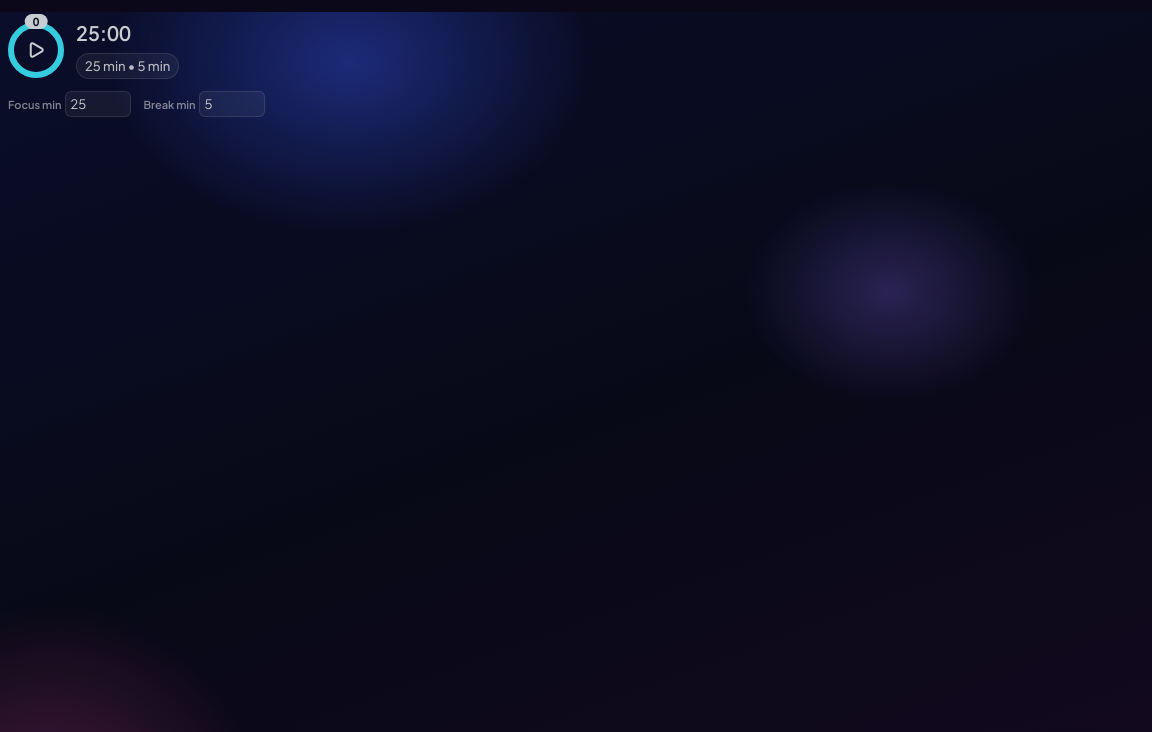
Test case: FocusWidget › skips a focus block into the break and persists the count
Click the button named "Start focus".
click(36, 50)  # box [14,28,58,72]
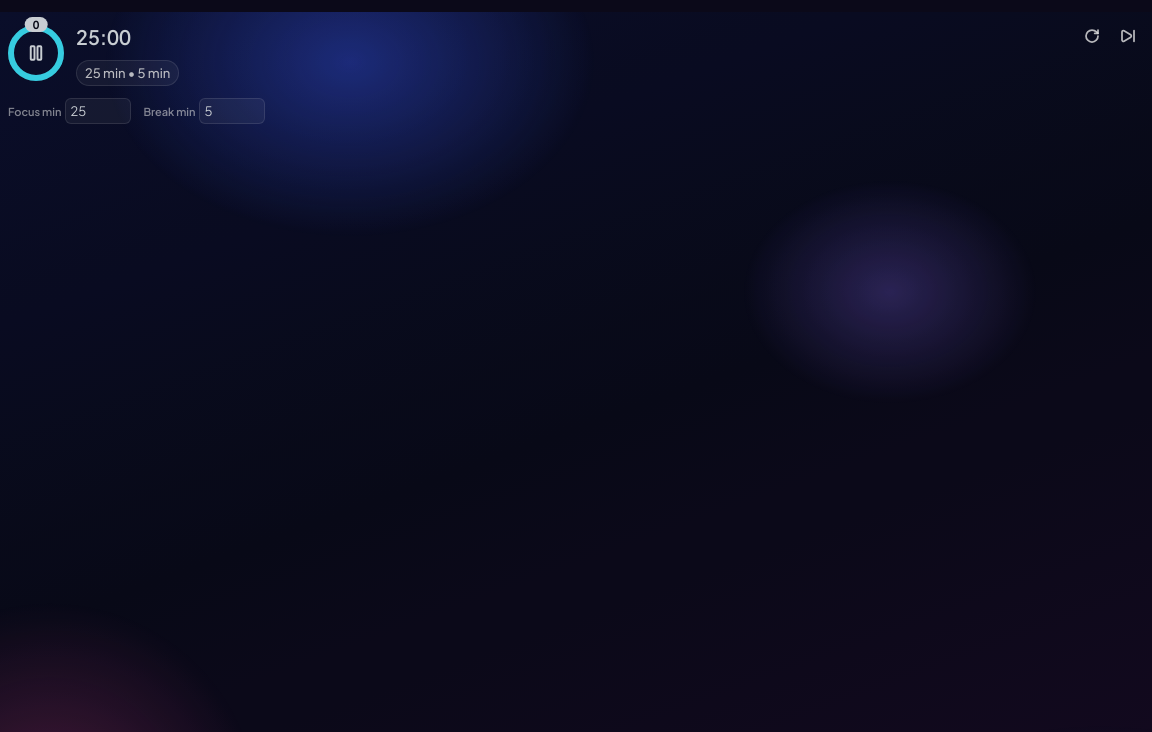
Click the button named "Skip".
click(1128, 36)  # box [1112,20,1144,52]
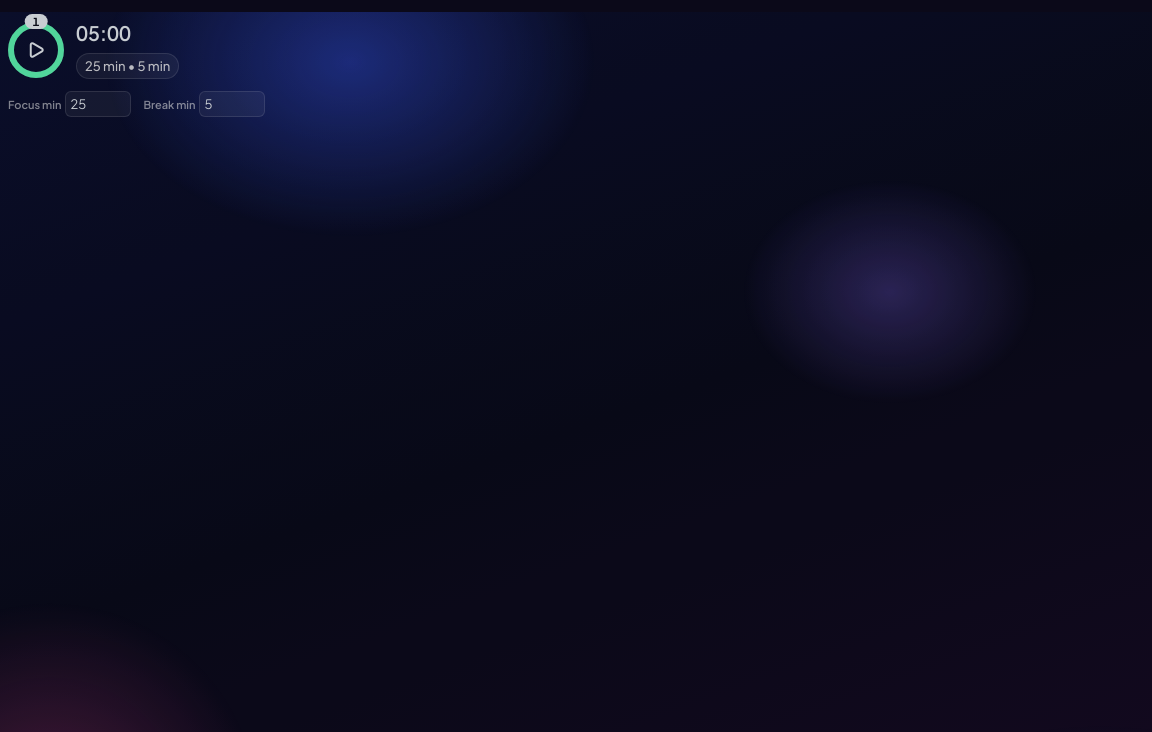
Result: the text with test id "focus-clock" reads "05:00" at [76,20,131,45]
